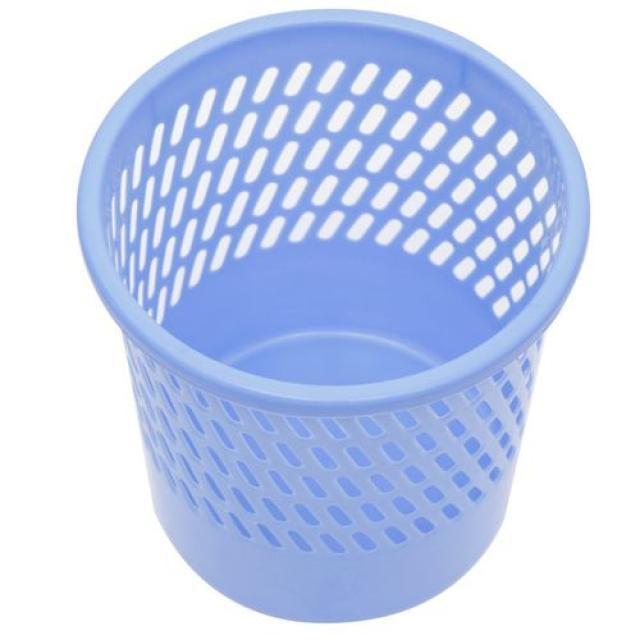dustbin: (65, 4, 596, 634)
